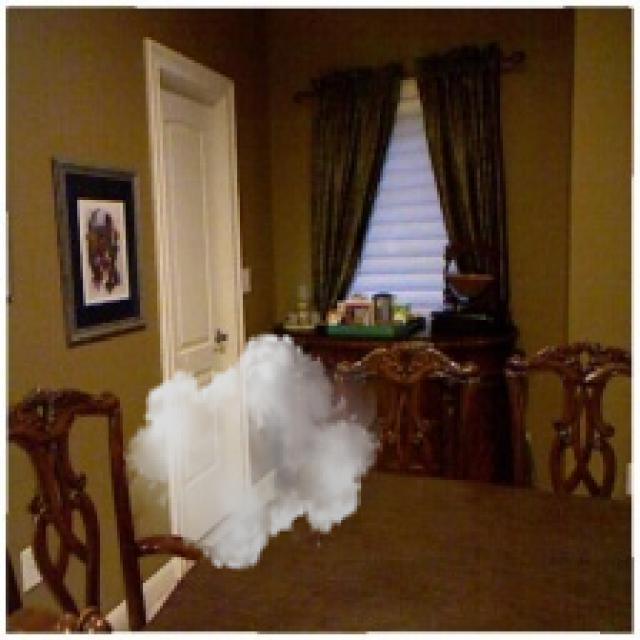smoke: (123, 323, 383, 580)
